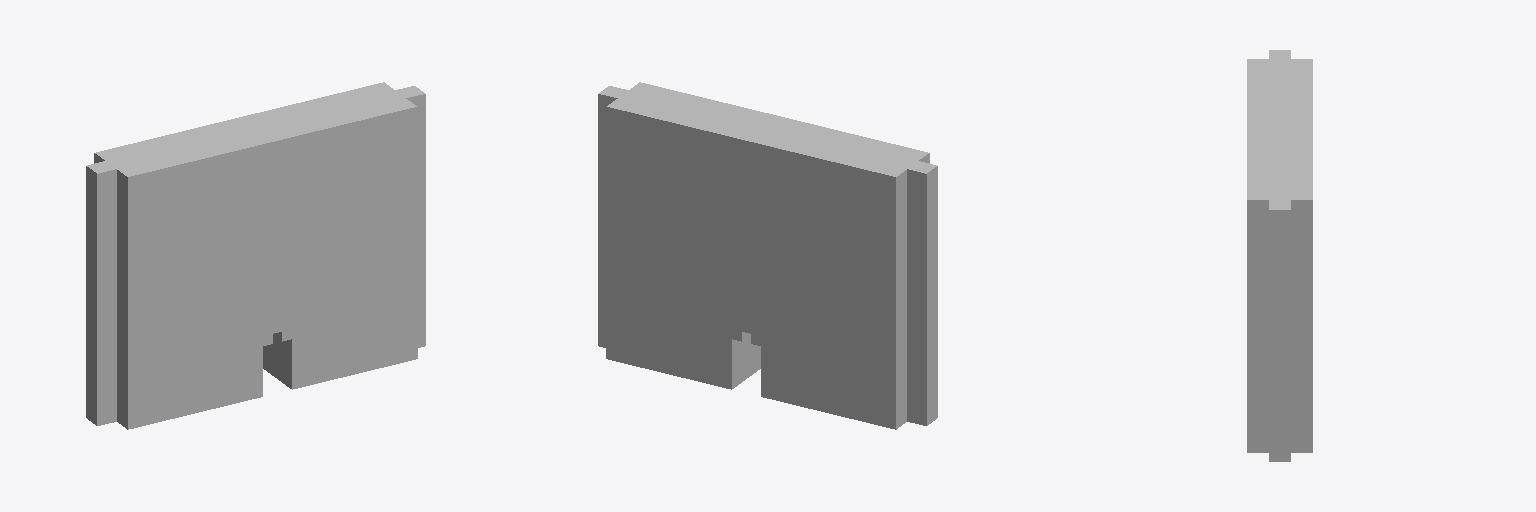
Rendered from boxeaar.obj.
The picture shows the model from 3 angles: view 1: azimuth 30°, elevation 25°; view 2: azimuth 150°, elevation 25°; view 3: azimuth 270°, elevation 25°; orthographic projection.
Parts seen in each view (by area): view 1: object 1; view 2: object 1; view 3: object 1.
Part boxes in pixels (bbox=[...]): object 1: bbox=[86, 82, 425, 429]; object 1: bbox=[598, 82, 937, 429]; object 1: bbox=[1247, 50, 1312, 461].
Size of the model in its own units: 3.4 by 2.5 by 0.6.